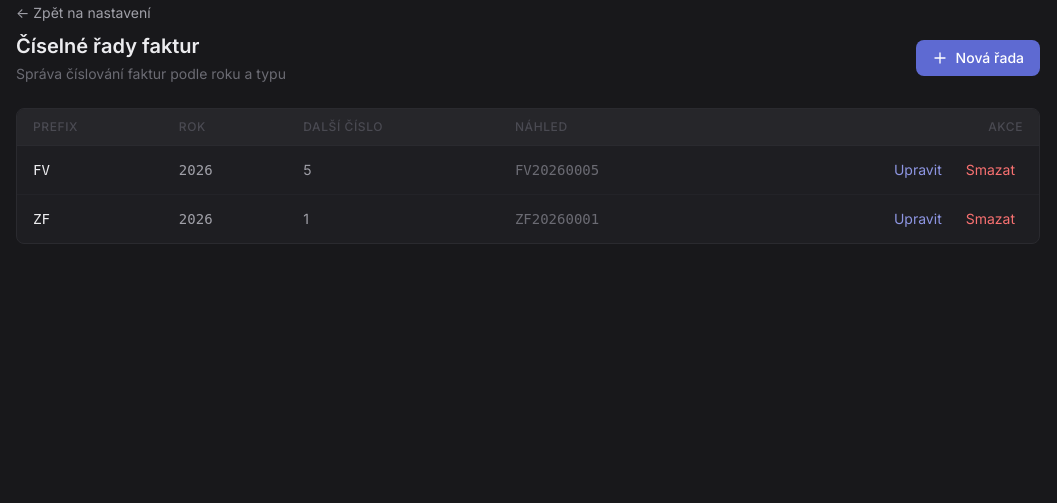
Test: Sequences Settings Page › "Nová řada" button toggles create form
Check: the text "FV" is shown, box [17,146,163,194]
Click the button "Nová řada".
click(978, 58)  # box [916,40,1040,76]
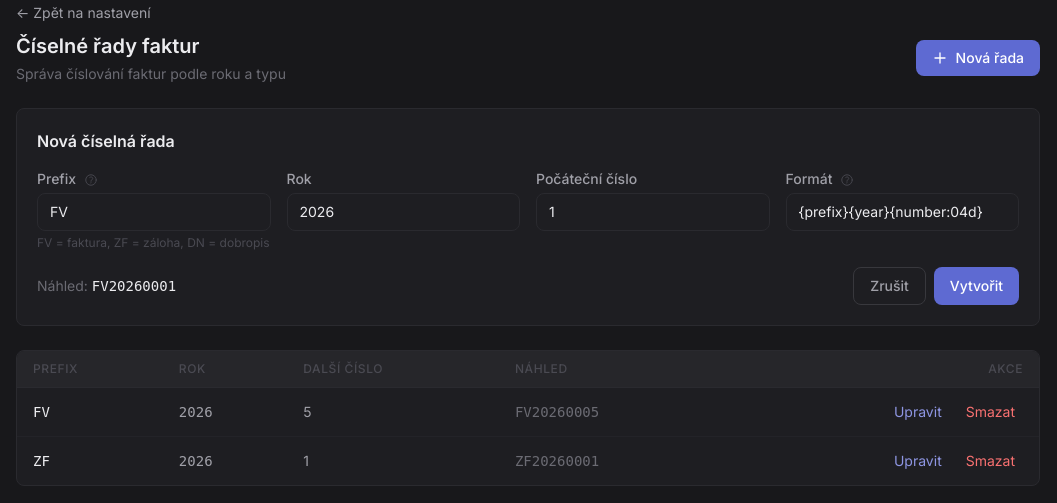
Check: the heading "Nová číselná řada" is shown, box [37,131,175,151]
Check: the field with id "create-prefix" is shown, box [37,193,270,231]
Check: the number field with id "create-year" is shown, box [286,193,520,231]
# Toggle off
Click the button "Nová řada".
click(978, 58)  # box [916,40,1040,76]
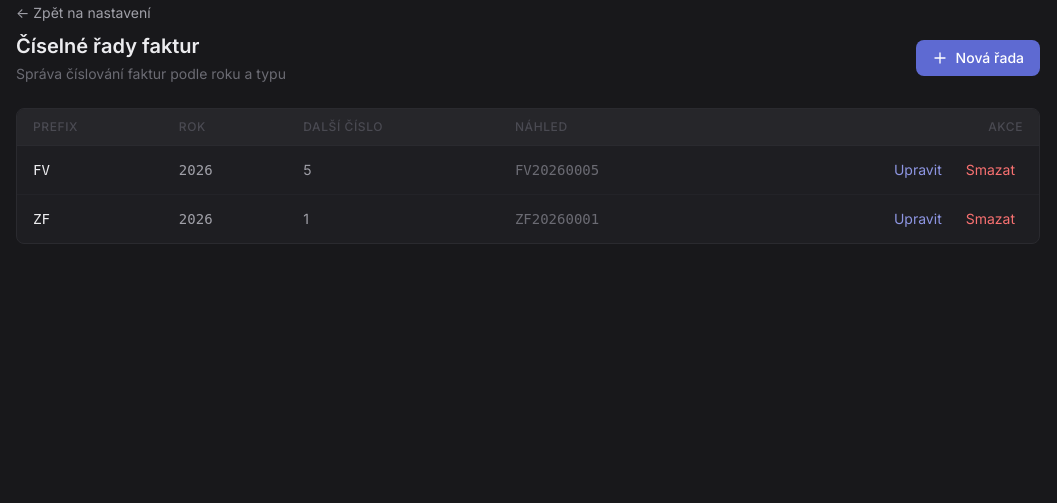
Check: the heading "Nová číselná řada" is gone
